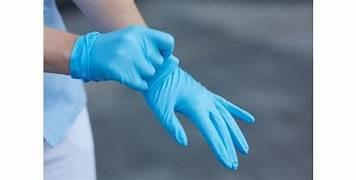Glove: (143, 55, 254, 168), (69, 25, 173, 90)
